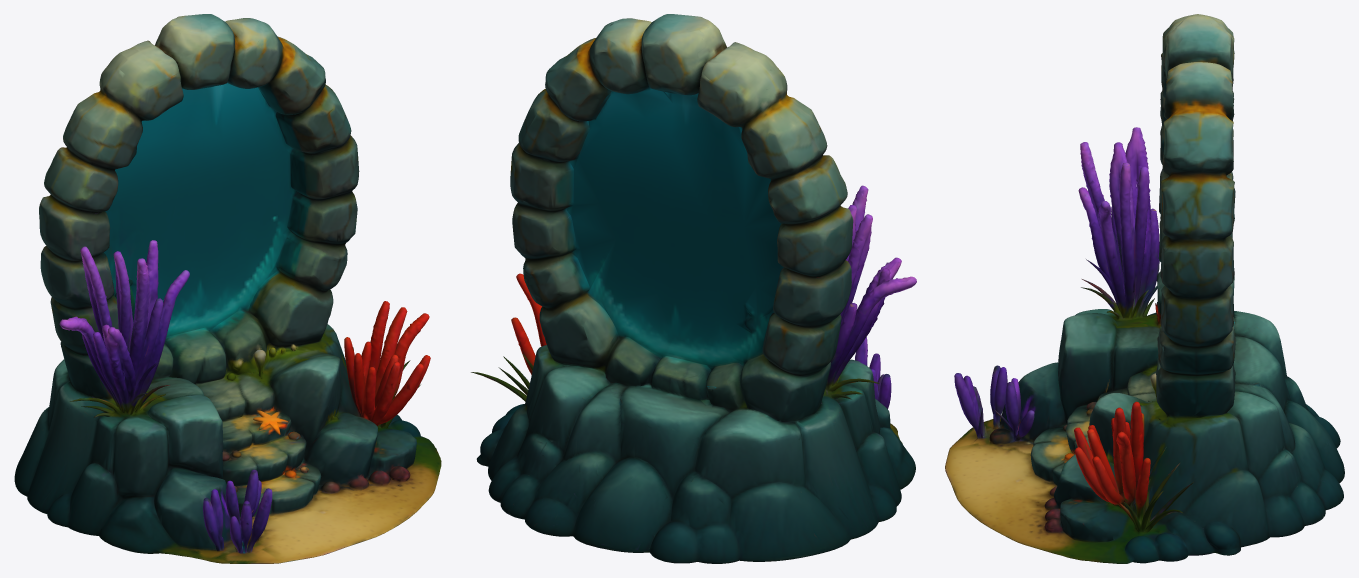
The model's file is underwater-portal.glb.
3 views of the same model, side by side, from view 1: azimuth 30°, elevation 25°; view 2: azimuth 150°, elevation 25°; view 3: azimuth 270°, elevation 25° (orthographic). The views are drawn at different scales.
Visible parts, largest first — view 1: material; view 2: material; view 3: material.
Boxes of the visible parts, <box> form: material: <box>14,14,441,563</box>; material: <box>471,14,916,563</box>; material: <box>945,14,1344,563</box>.
Bounding box in the file's own units: 0.8092 × 0.8939 × 0.7288.
Materials: 1 (1 with a texture image).
